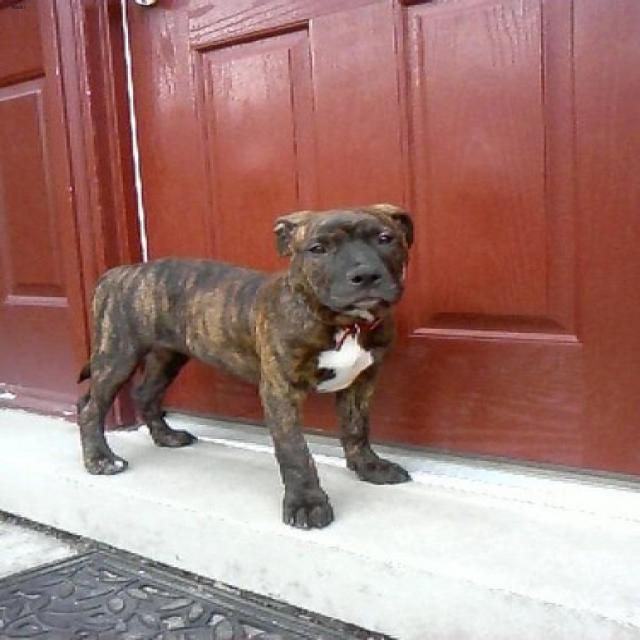dog-american_pit_bull_terrier: (60, 195, 425, 541)
